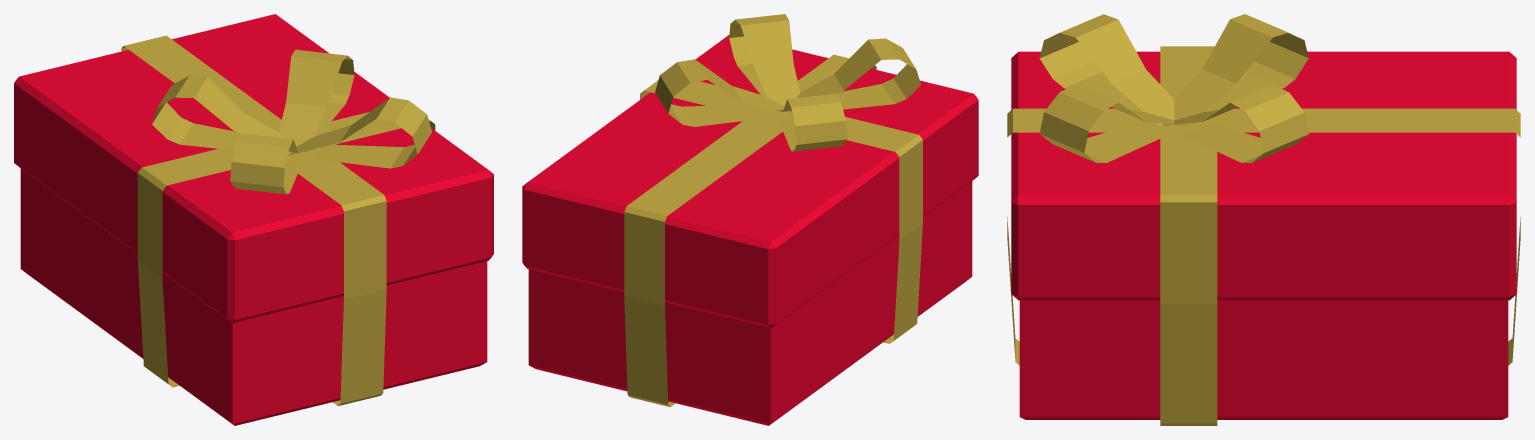
Rendered from present3.glb.
3 views of the same model, side by side, from view 1: azimuth 30°, elevation 25°; view 2: azimuth 150°, elevation 25°; view 3: azimuth 270°, elevation 25° (orthographic). The views are drawn at different scales.
Visible parts, largest first — view 1: Cube.005; view 2: Cube.005; view 3: Cube.005.
Part boxes in pixels (x1,y1,x2,y2): Cube.005: [14, 14, 493, 425]; Cube.005: [522, 14, 978, 425]; Cube.005: [1007, 14, 1520, 425].
Bounding box in the file's own units: 0.2722 × 0.2429 × 0.3848.
